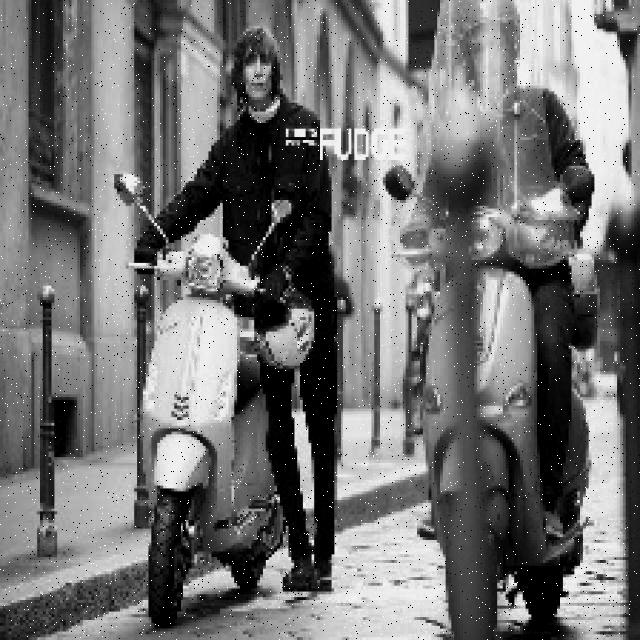Bike: (406, 226, 596, 627), (139, 237, 297, 623)
